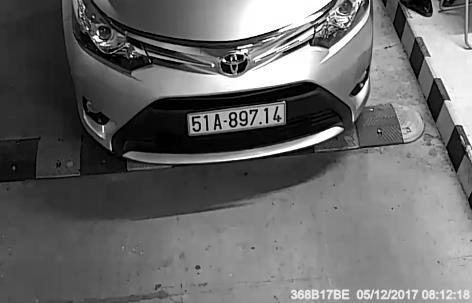License-plate: (188, 98, 292, 140)
